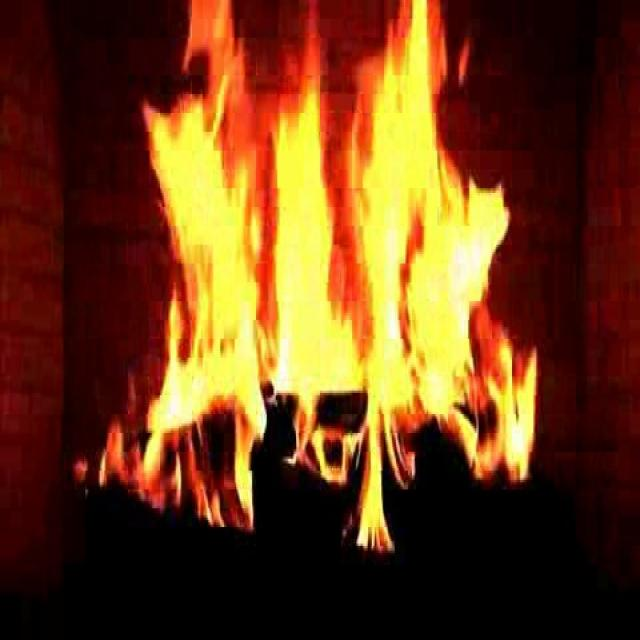fire: (128, 16, 540, 552)
